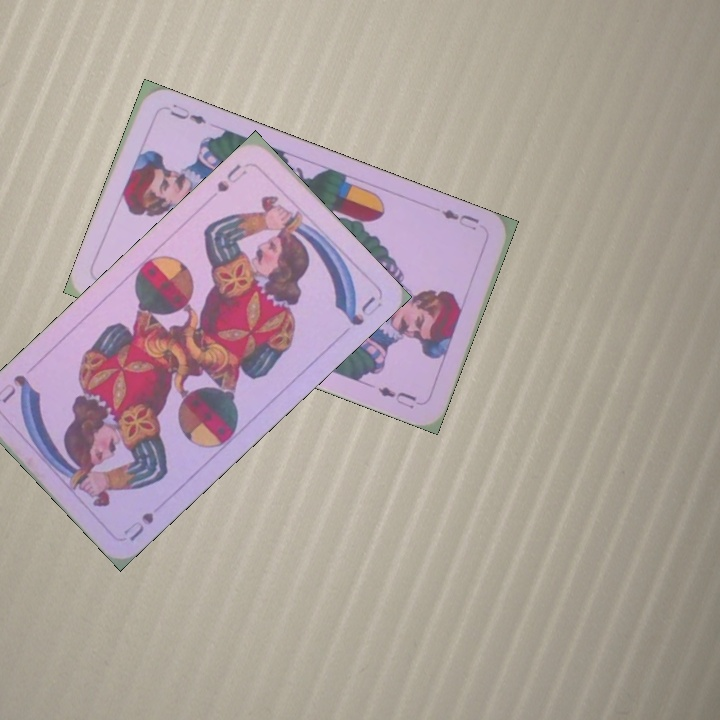EU: (438, 205, 482, 233)
SU: (119, 508, 157, 544), (212, 160, 250, 195)
